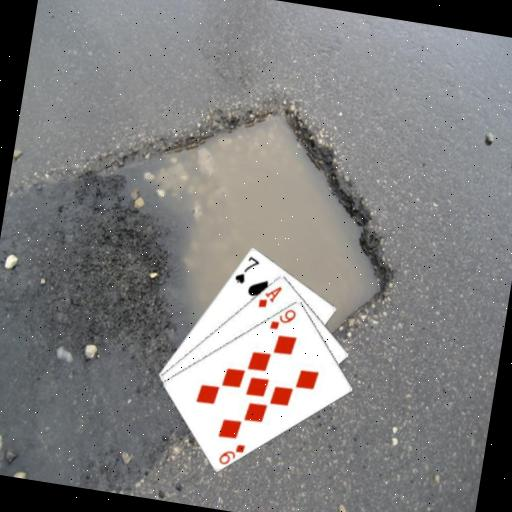7S: (231, 250, 262, 287)
9D: (265, 303, 298, 334), (215, 438, 247, 469)
AD: (254, 280, 285, 312)
